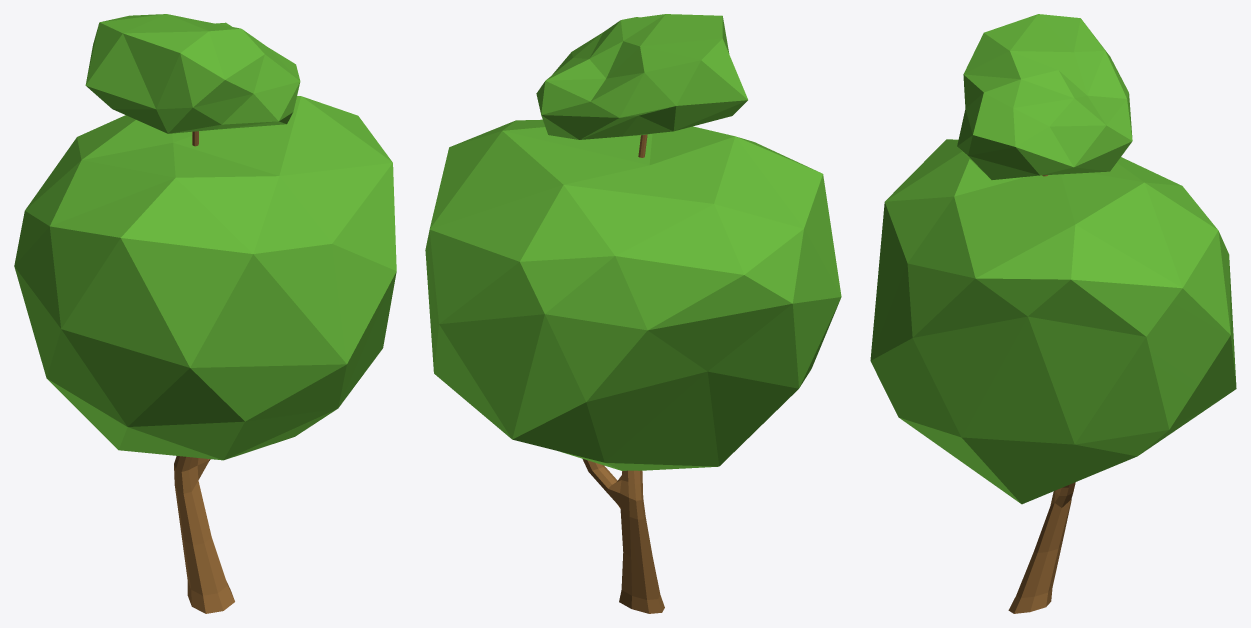
Rendered from Bush_2.fbx.
The picture shows the model from 3 angles, left to right: view 1: azimuth 30°, elevation 25°; view 2: azimuth 150°, elevation 25°; view 3: azimuth 270°, elevation 25°; orthographic projection. The views are drawn at different scales.
Visible parts, largest first — view 1: Bush_2; view 2: Bush_2; view 3: Bush_2.
Boxes of the visible parts, x1,y1,x2,y2 form: Bush_2: [14, 14, 396, 613]; Bush_2: [425, 14, 841, 613]; Bush_2: [870, 14, 1236, 613].
Size of the model in its own units: 155 by 254 by 151.
